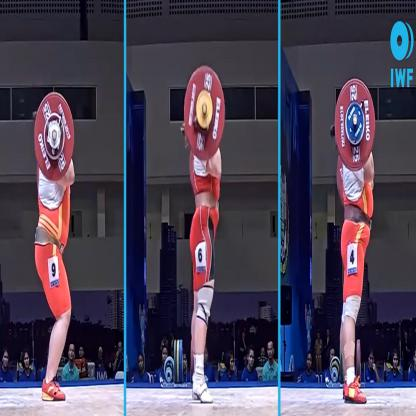Barbell: (180, 60, 227, 166), (330, 73, 379, 173), (28, 86, 78, 184)
